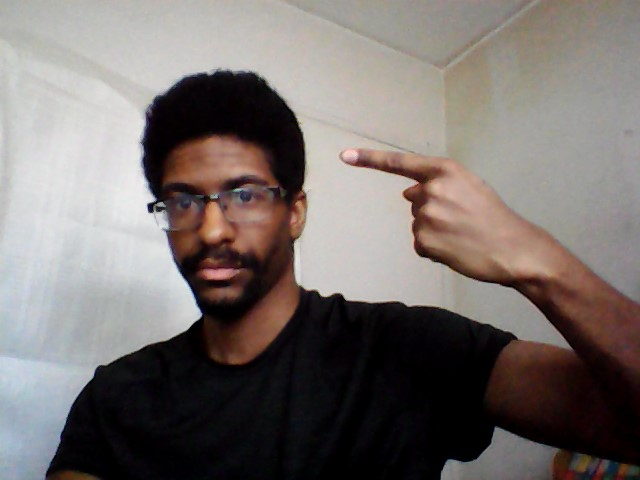g: (337, 141, 548, 286)
